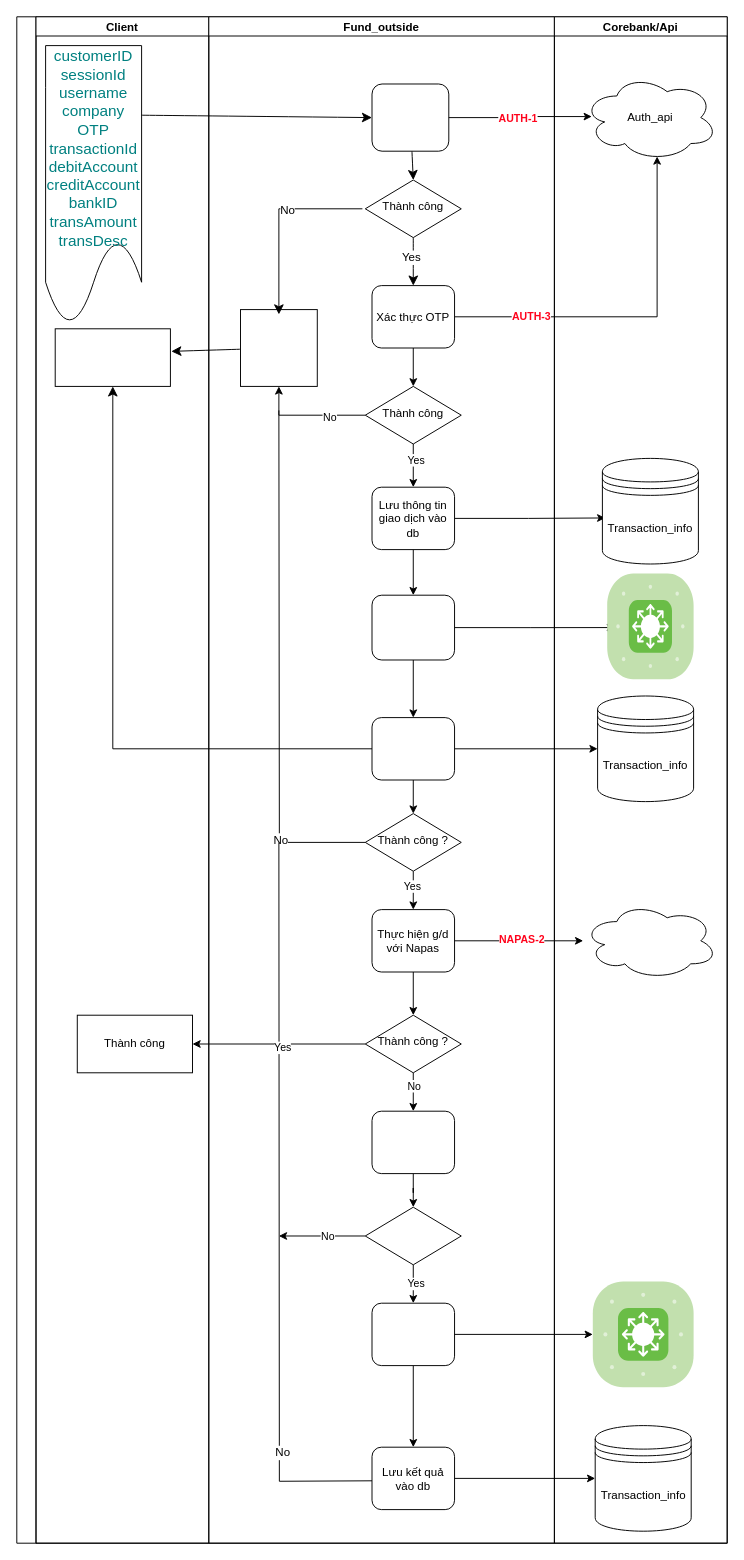
Image size: 744x1560. Some labels were removed from this diagram. The centre of each missing label's shape, as x and y in pixels:
Cập nhật kết quả vào DB: pixel 413 748
errorCode in revert?: pixel 413 1142
Ghi log lỗi: pixel 278 347
Napas_api: pixel 650 940
Process FT: pixel 413 627
Revert?: pixel 412 1235
takeSession: pixel 410 117
Thực hiện revert g/d: pixel 413 1334
Trả lỗi: pixel 112 357
